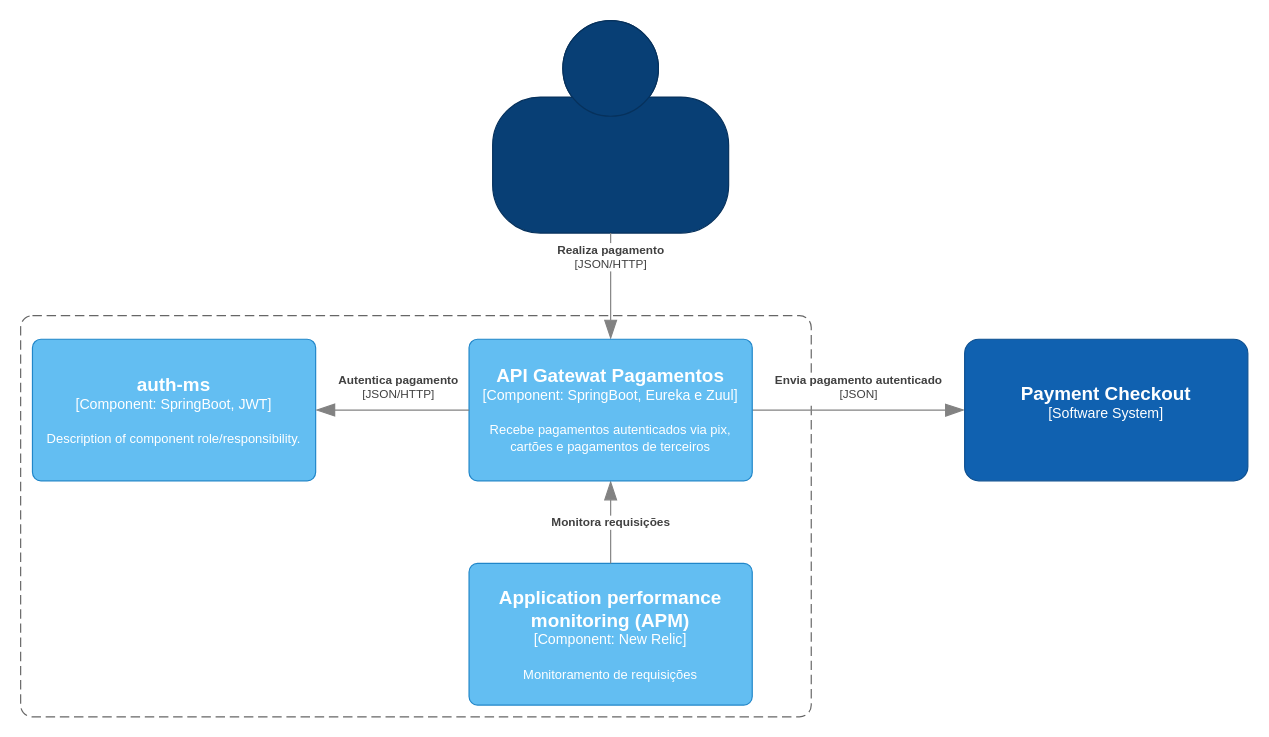
Image size: 1269x737. Some labels were removed from this diagram. The shapes that lost their labels are listed below. From the top down, each one's box as (x1, y1, x2, y2) in pixels, then its label:
(491, 19, 729, 233): Cliente [Person] Cliente que realiza um pagamento
(19, 314, 811, 717): Gateway de Pagamentos [Component]
